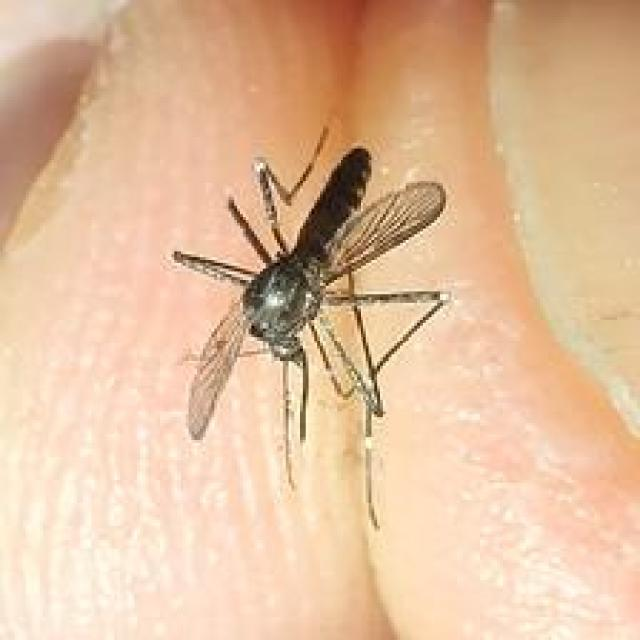Aedes albopictus: (168, 123, 452, 528)
